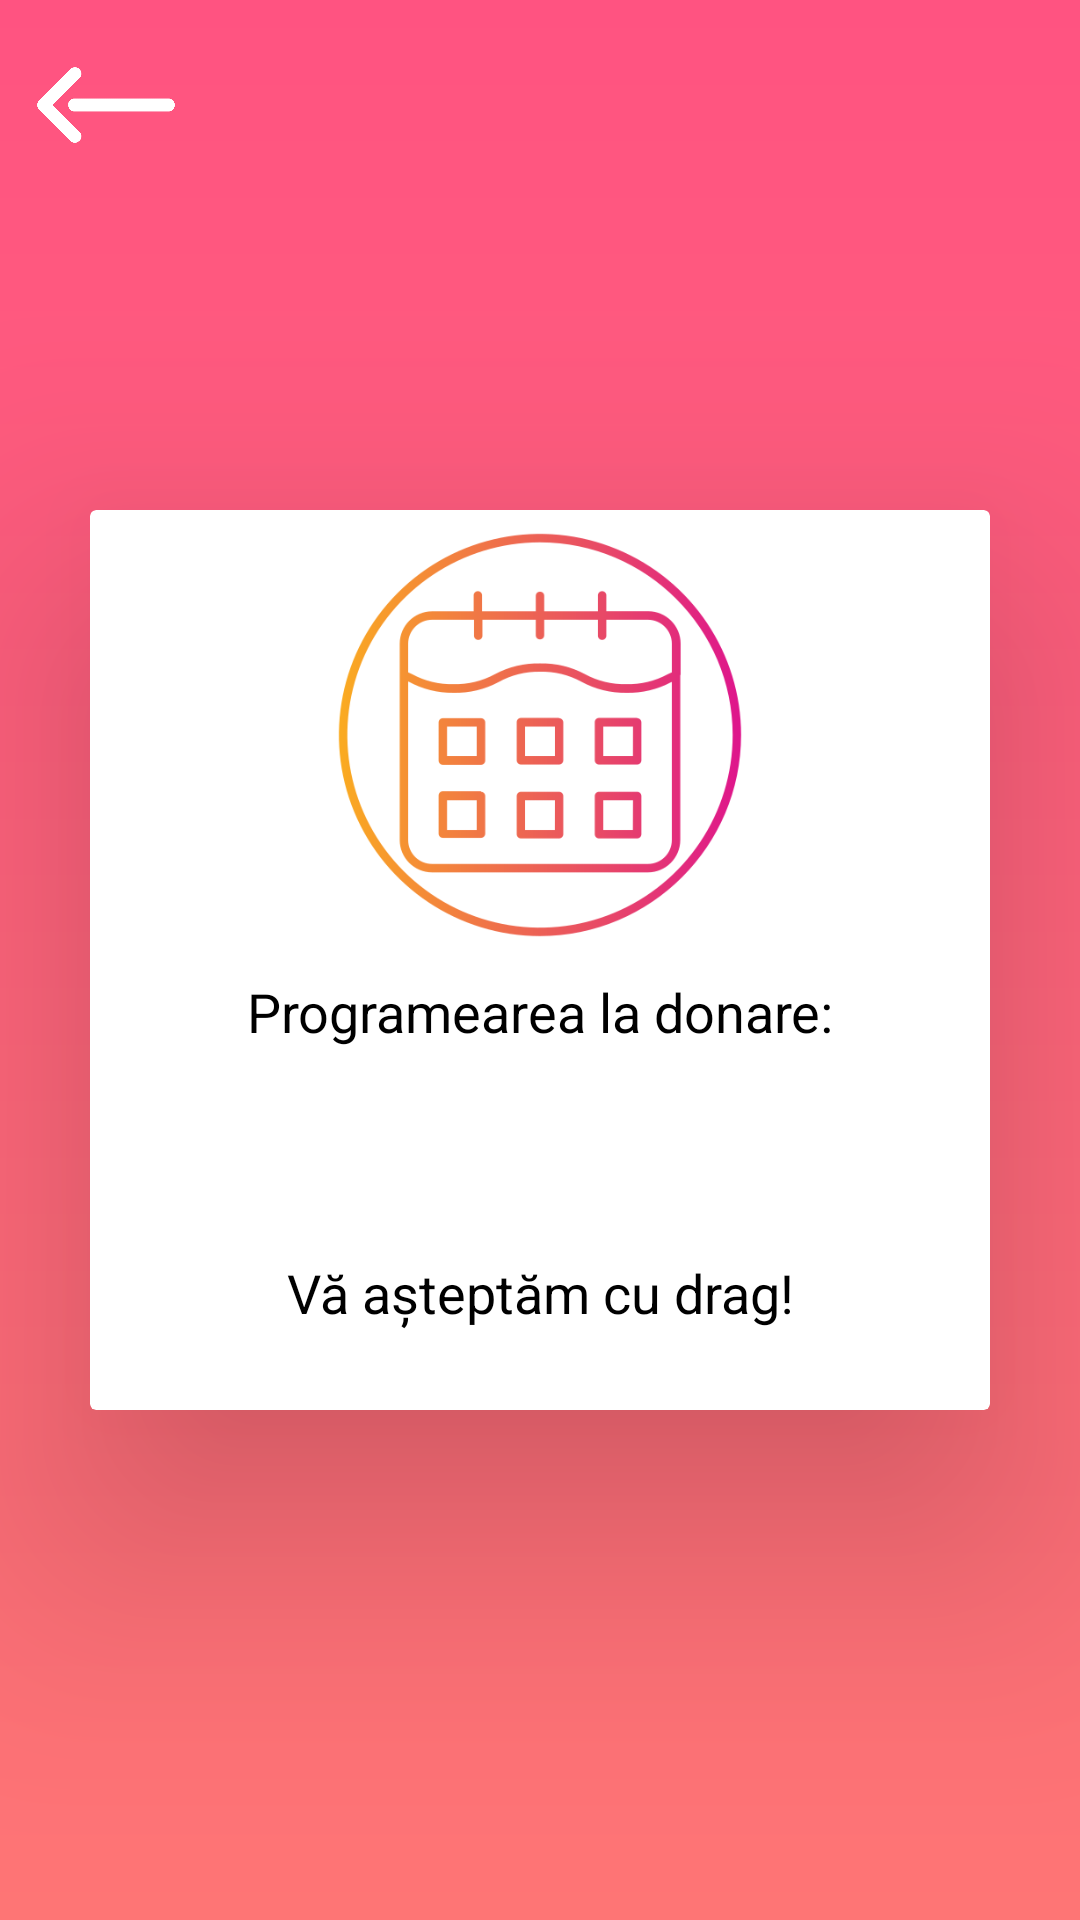

Where icons sit on this 1080px x 1920px app screen, as bbox=[x1, y1, x2, y2]:
back: bbox=[37, 67, 175, 143]
